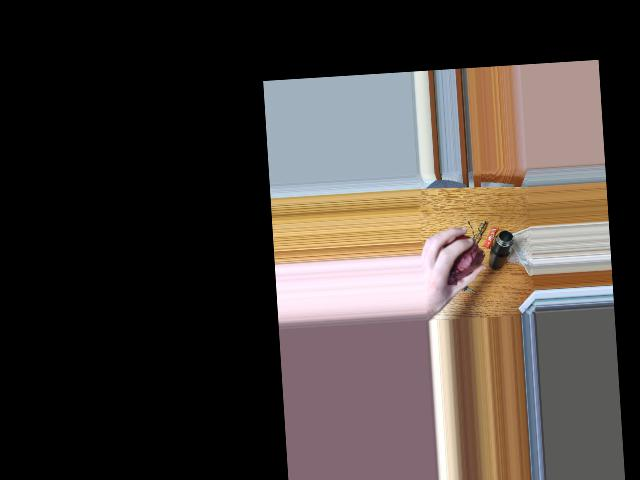onion: (442, 235, 482, 288)
